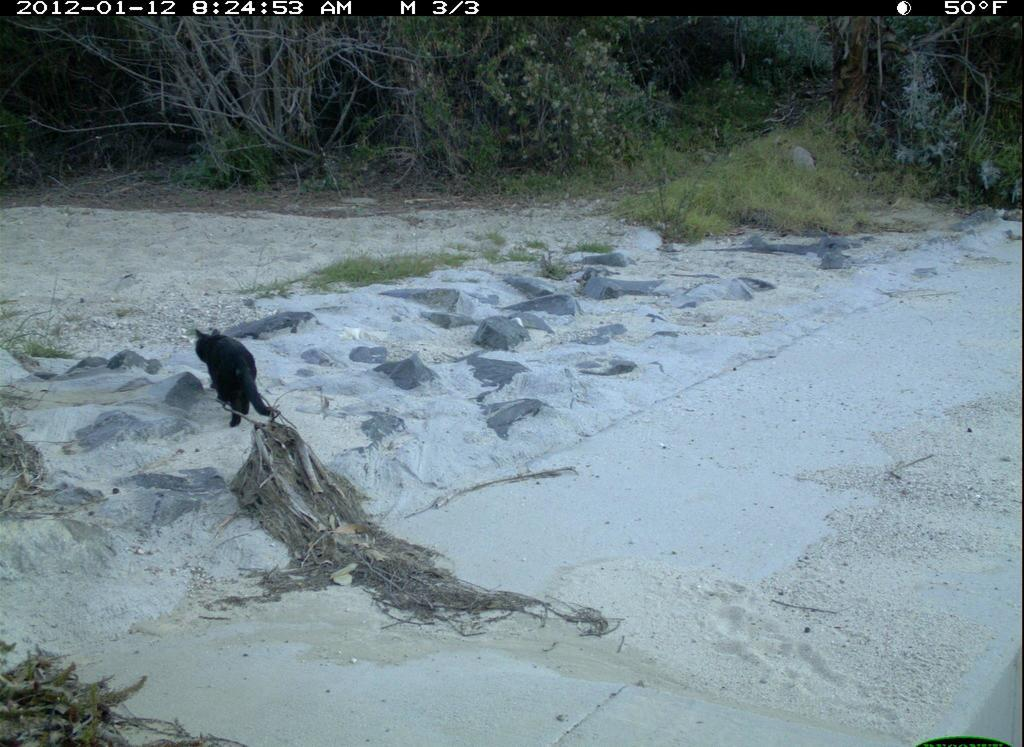cat: (186, 323, 286, 431)
